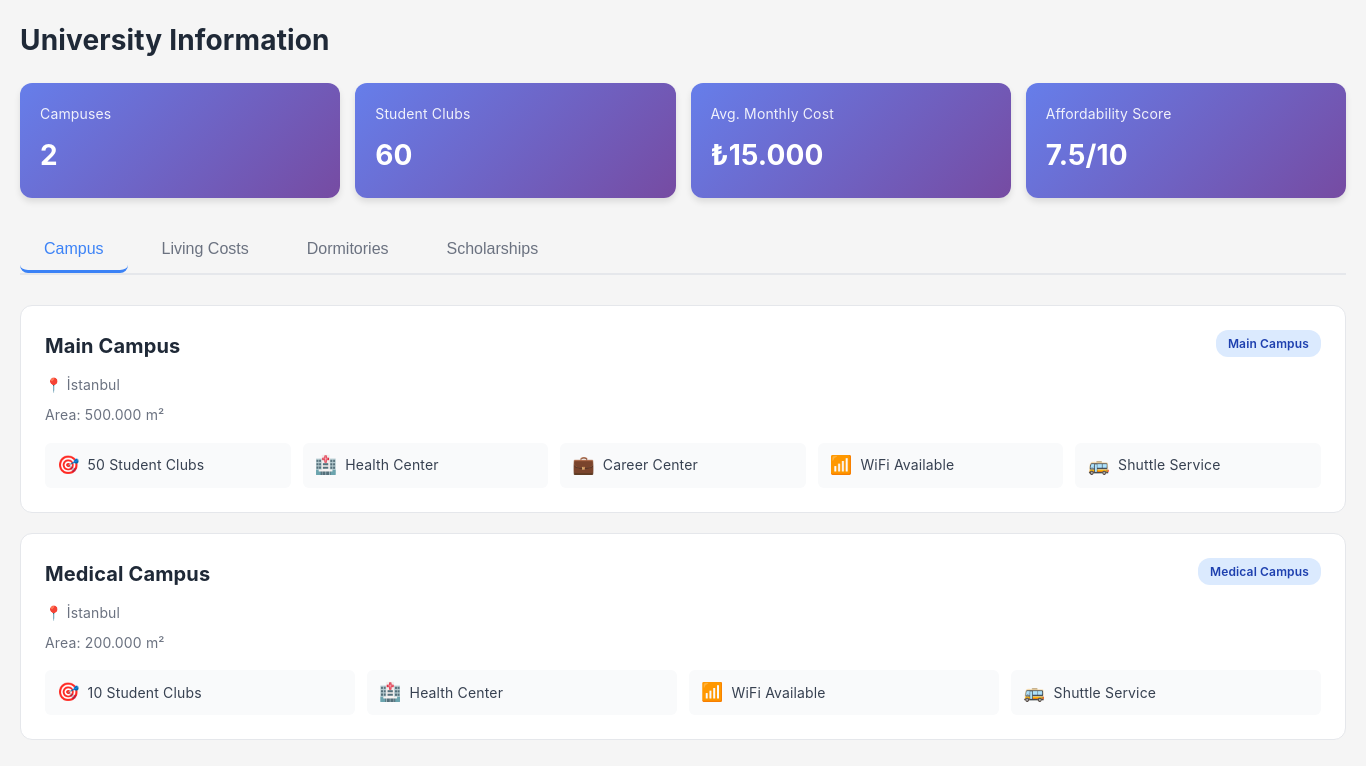
Test: UniversityInfo - Dormitory Tab › displays dormitory prices
Click the button "Dormitories" at (348, 250), box [283, 228, 412, 273]
(page scrolled)
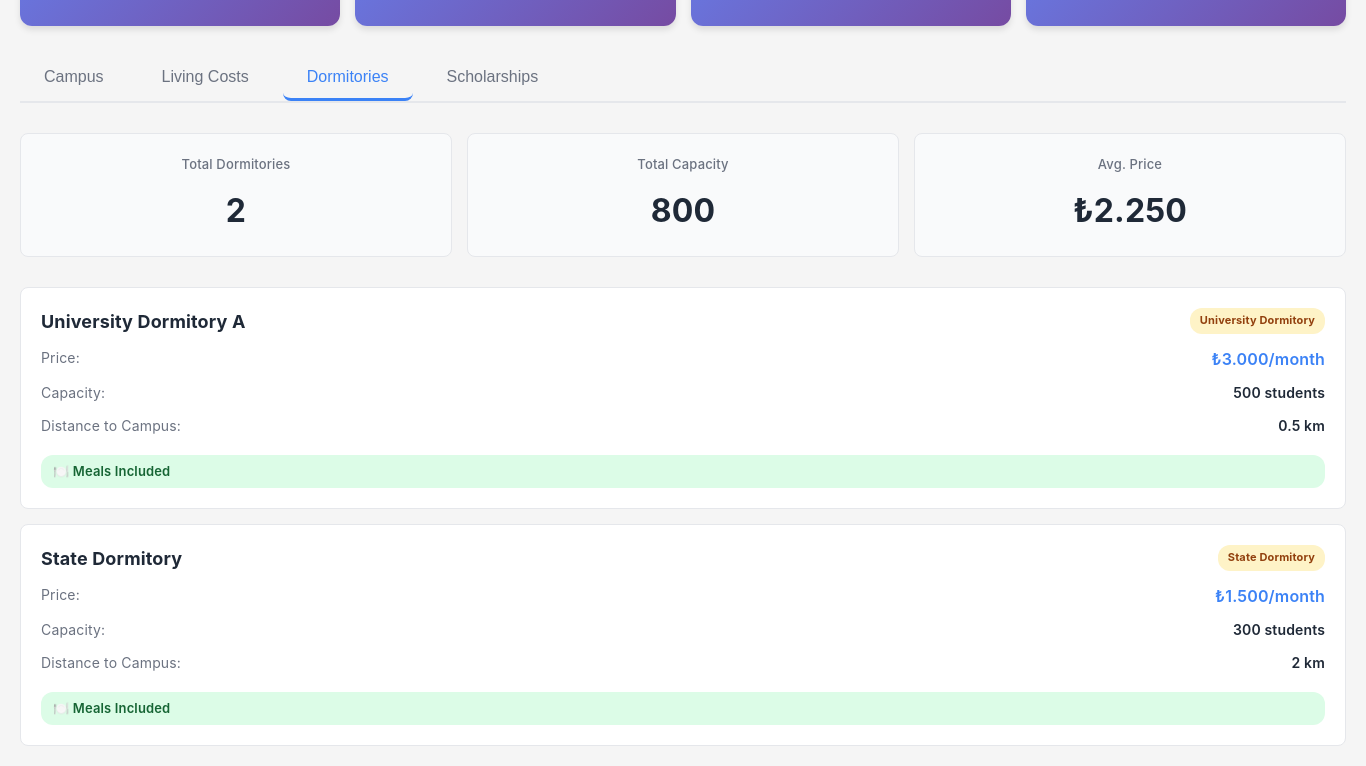
Check: the text "₺3.000/month" is shown, box [1212, 347, 1325, 372]
Check: the text "₺1.500/month" is shown, box [1215, 584, 1325, 609]
